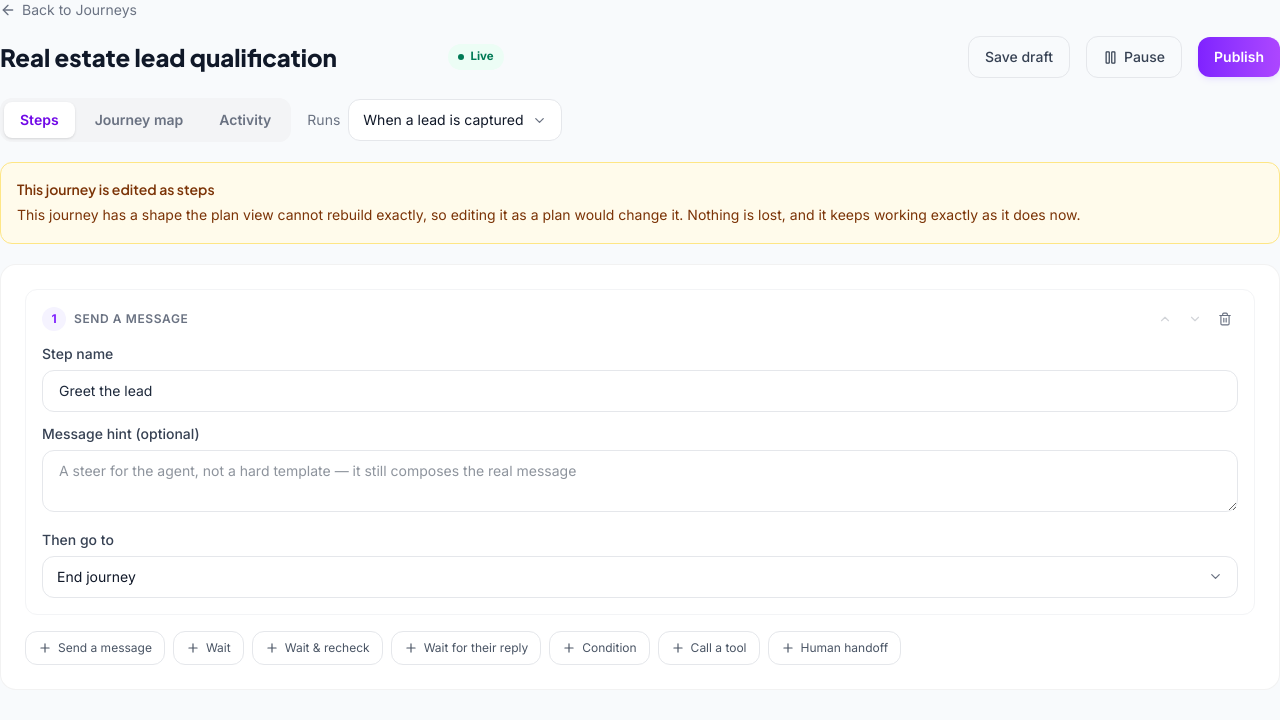
Test: saving a published journey › leaves the journey published when the operator backs out
The image size is (1280, 720).
Click the button "Save draft" at point(1019, 57), box [968,36,1070,78]
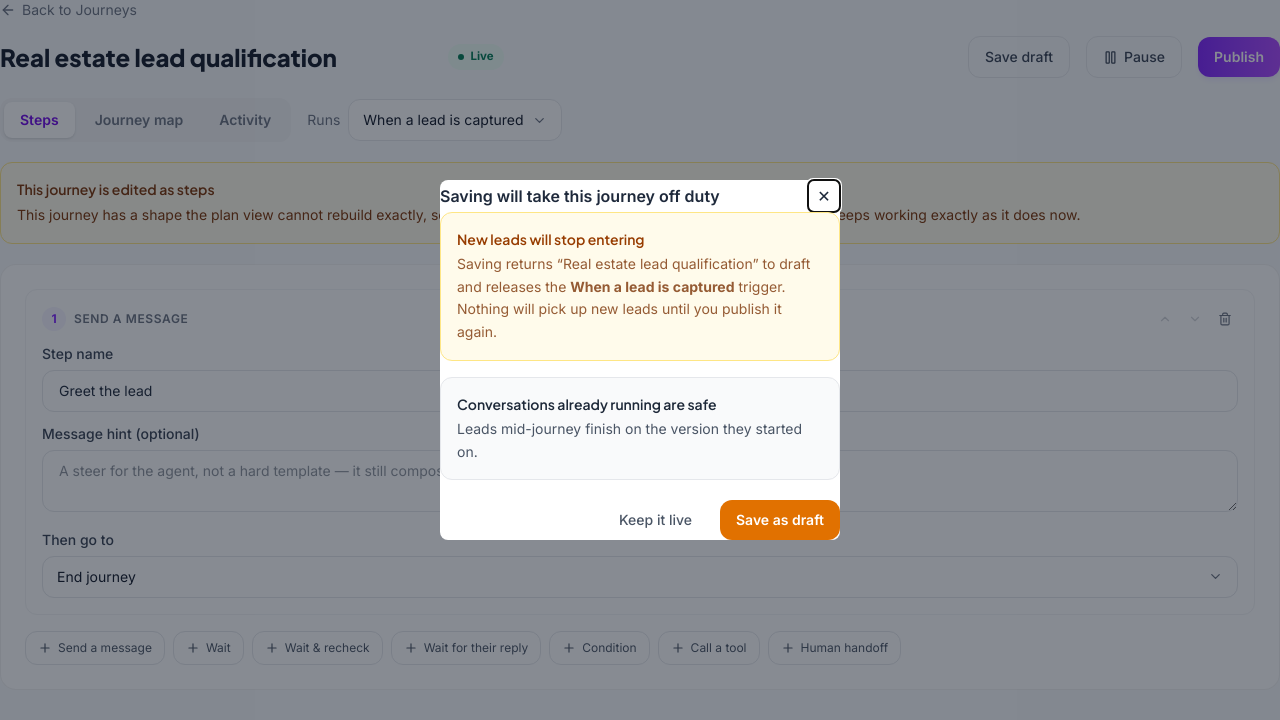
Click the button "Keep it live" at point(656, 520), box [603,500,708,540]
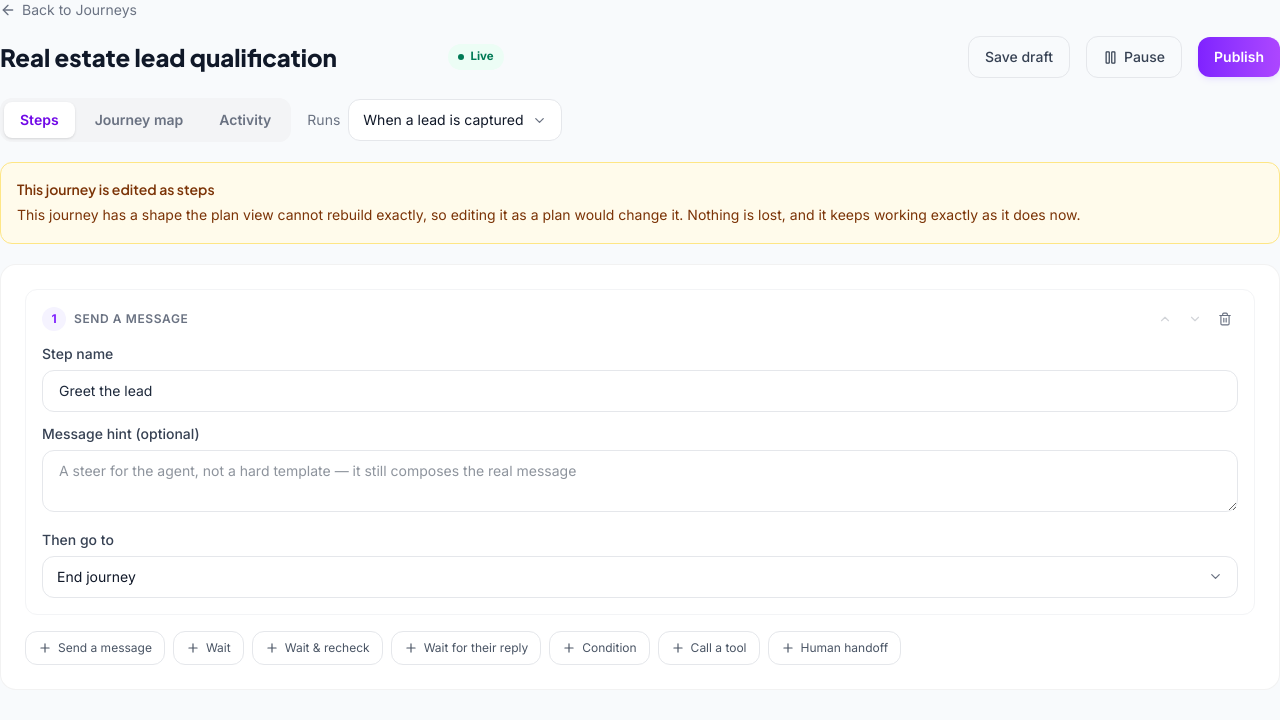
Check: the heading "Saving will take this journey off duty" is gone
